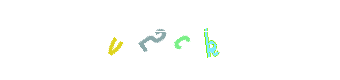2: (123, 0, 203, 80)
C: (130, 0, 210, 80)
K: (170, 0, 250, 80)
V: (110, 0, 190, 80)
